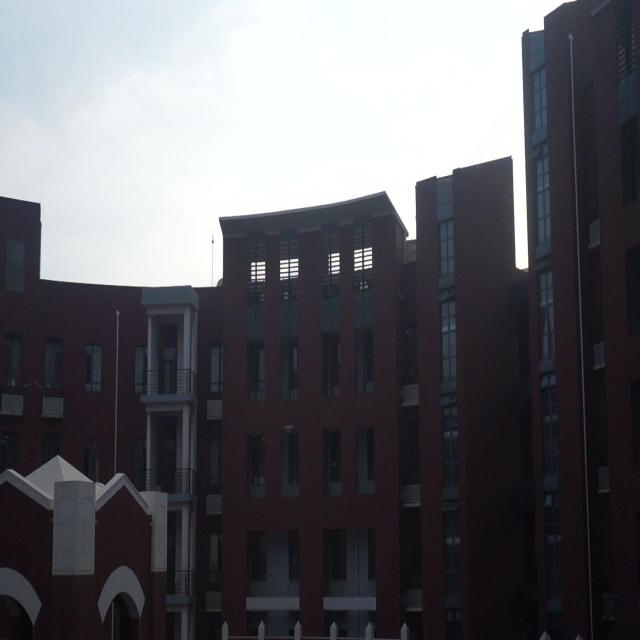drone: (281, 419, 296, 436)
